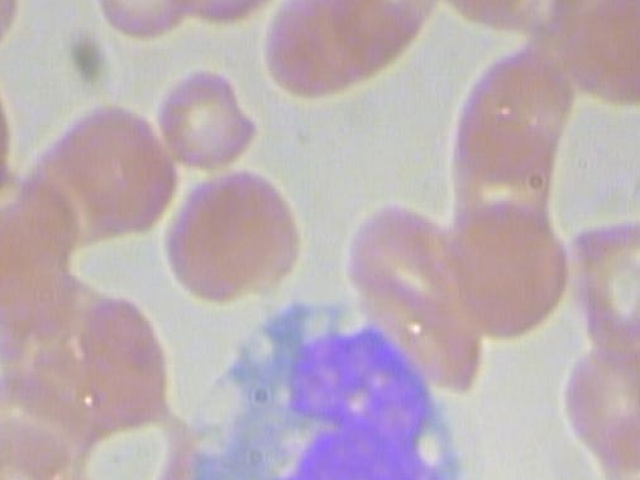RBC: (436, 190, 575, 340), (50, 103, 180, 244), (157, 175, 277, 312), (67, 283, 173, 418), (69, 280, 175, 415), (148, 61, 256, 172), (560, 326, 640, 470), (255, 0, 367, 101), (558, 0, 640, 111), (91, 0, 200, 47), (173, 0, 286, 33), (599, 413, 640, 480), (0, 465, 141, 480)
WBC: (176, 302, 472, 480)
